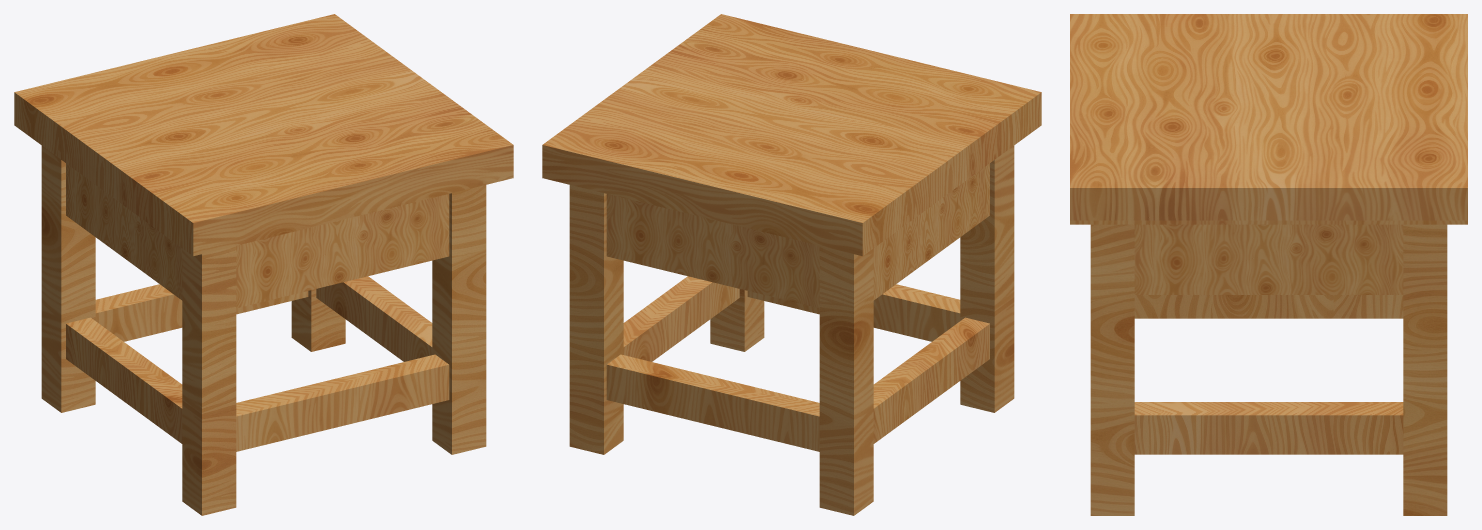
The model's file is LivingRoom_Stool_Drop.fbx.
The picture shows the model from 3 angles, left to right: view 1: azimuth 30°, elevation 25°; view 2: azimuth 150°, elevation 25°; view 3: azimuth 270°, elevation 25°; orthographic projection. The views are drawn at different scales.
Parts seen in each view (by area): view 1: LivingRoom_Stool_Drop.000, LivingRoom_Stool_Drop.004, LivingRoom_Stool_Drop.006, LivingRoom_Stool_Drop.001, LivingRoom_Stool_Drop.009, LivingRoom_Stool_Drop.003, LivingRoom_Stool_Drop.010, LivingRoom_Stool_Drop.005, LivingRoom_Stool_Drop.012, LivingRoom_Stool_Drop.011, LivingRoom_Stool_Drop.002; view 2: LivingRoom_Stool_Drop.000, LivingRoom_Stool_Drop.003, LivingRoom_Stool_Drop.008, LivingRoom_Stool_Drop.002, LivingRoom_Stool_Drop.011, LivingRoom_Stool_Drop.004, LivingRoom_Stool_Drop.010, LivingRoom_Stool_Drop.005, LivingRoom_Stool_Drop.012, LivingRoom_Stool_Drop.009, LivingRoom_Stool_Drop.001; view 3: LivingRoom_Stool_Drop.000, LivingRoom_Stool_Drop.007, LivingRoom_Stool_Drop.012, LivingRoom_Stool_Drop.001, LivingRoom_Stool_Drop.002, LivingRoom_Stool_Drop.010.
Part boxes in pixels (x1=…): LivingRoom_Stool_Drop.000: x1=14, y1=14, x2=513, y2=256; LivingRoom_Stool_Drop.004: x1=182, y1=246, x2=236, y2=515; LivingRoom_Stool_Drop.006: x1=236, y1=194, x2=449, y2=308; LivingRoom_Stool_Drop.001: x1=432, y1=185, x2=486, y2=454; LivingRoom_Stool_Drop.009: x1=236, y1=354, x2=449, y2=451; LivingRoom_Stool_Drop.003: x1=41, y1=146, x2=95, y2=412; LivingRoom_Stool_Drop.010: x1=66, y1=317, x2=182, y2=443; LivingRoom_Stool_Drop.005: x1=66, y1=163, x2=182, y2=300; LivingRoom_Stool_Drop.012: x1=316, y1=276, x2=432, y2=361; LivingRoom_Stool_Drop.011: x1=95, y1=284, x2=308, y2=341; LivingRoom_Stool_Drop.002: x1=291, y1=289, x2=345, y2=351; LivingRoom_Stool_Drop.000: x1=542, y1=14, x2=1041, y2=256; LivingRoom_Stool_Drop.003: x1=819, y1=246, x2=873, y2=515; LivingRoom_Stool_Drop.008: x1=606, y1=194, x2=819, y2=308; LivingRoom_Stool_Drop.002: x1=569, y1=185, x2=623, y2=454; LivingRoom_Stool_Drop.011: x1=606, y1=354, x2=819, y2=451; LivingRoom_Stool_Drop.004: x1=960, y1=146, x2=1014, y2=412; LivingRoom_Stool_Drop.010: x1=873, y1=317, x2=989, y2=443; LivingRoom_Stool_Drop.005: x1=873, y1=163, x2=989, y2=300; LivingRoom_Stool_Drop.012: x1=623, y1=276, x2=739, y2=361; LivingRoom_Stool_Drop.009: x1=747, y1=284, x2=960, y2=341; LivingRoom_Stool_Drop.001: x1=710, y1=289, x2=764, y2=351; LivingRoom_Stool_Drop.000: x1=1070, y1=14, x2=1467, y2=224; LivingRoom_Stool_Drop.007: x1=1134, y1=224, x2=1403, y2=294; LivingRoom_Stool_Drop.012: x1=1134, y1=402, x2=1403, y2=454; LivingRoom_Stool_Drop.001: x1=1090, y1=224, x2=1134, y2=515; LivingRoom_Stool_Drop.002: x1=1403, y1=224, x2=1447, y2=515; LivingRoom_Stool_Drop.010: x1=1134, y1=295, x2=1403, y2=318.
Bounding box in the file's own units: 51.84 × 47 × 50.12.
